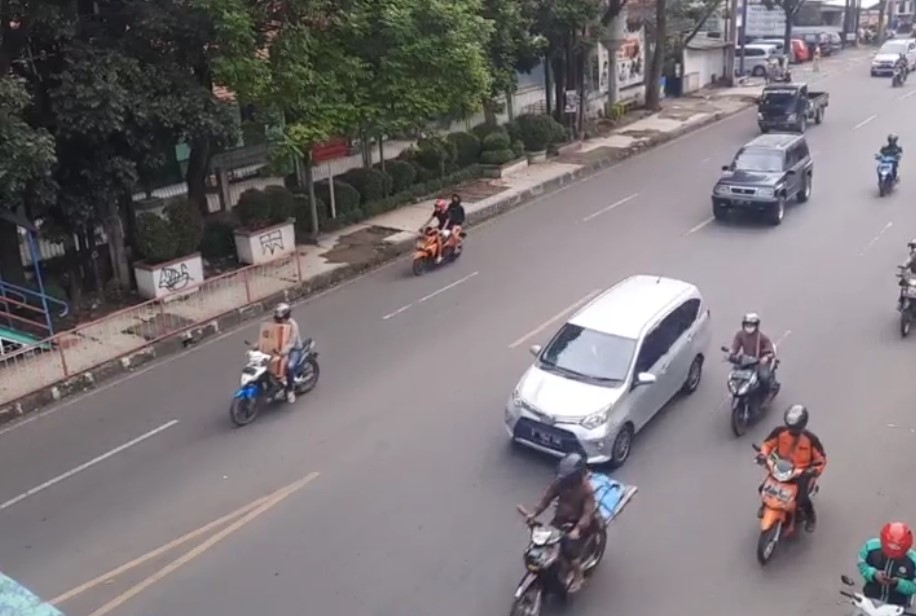motor: (484, 454, 632, 616), (750, 409, 827, 569), (222, 303, 328, 416), (724, 313, 786, 434), (412, 190, 474, 279), (869, 131, 903, 193)
